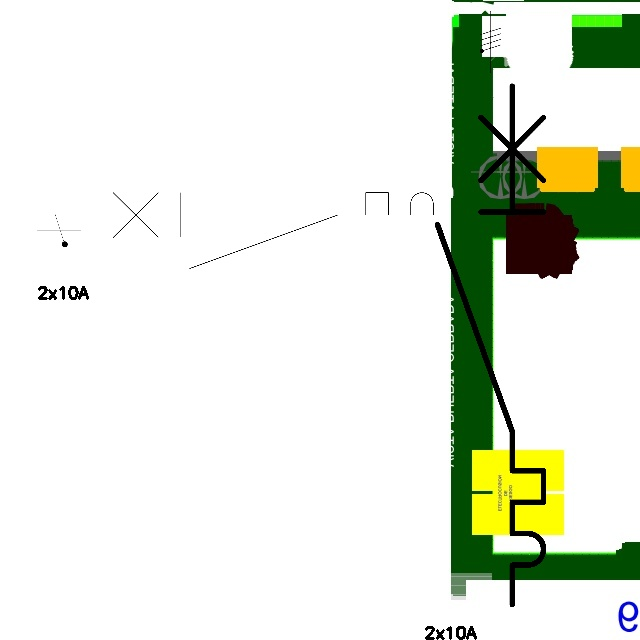interruptor_termomagnetico: (424, 72, 557, 617), (81, 183, 471, 278)
